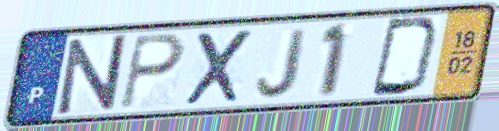1: (317, 22, 351, 100)
D: (368, 15, 444, 98)
J: (254, 26, 312, 100)
N: (55, 32, 129, 118)
P: (118, 32, 187, 113)
X: (181, 27, 256, 109)
